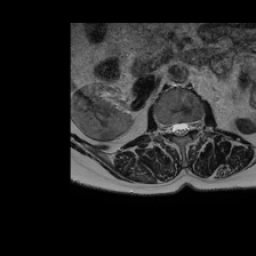CCS_normal: (177, 115, 184, 141)
LFS_normal: (190, 115, 196, 133)
LLS_normal: (184, 115, 190, 139)
RFS_normal: (164, 118, 171, 140)
RLS_normal: (171, 117, 177, 140)
